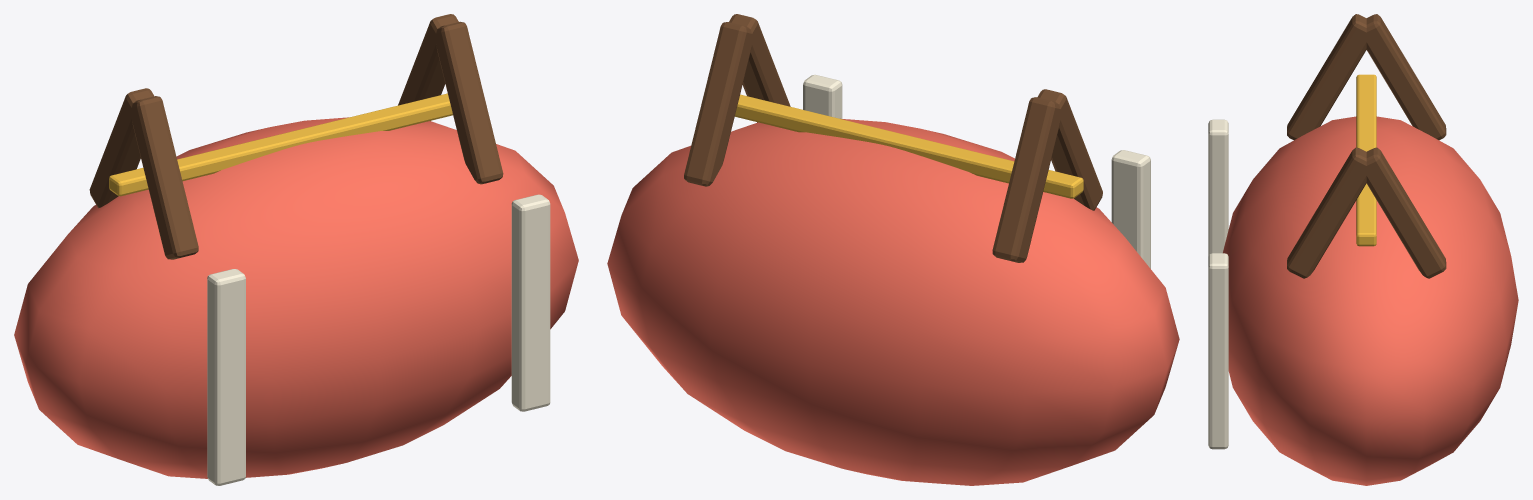
File: beach-bag.glb
3 renders of one model, left to right at view 1: azimuth 30°, elevation 25°; view 2: azimuth 150°, elevation 25°; view 3: azimuth 270°, elevation 25°, orthographic. The views are drawn at different scales.
Parts seen in each view (by area): view 1: Duffel body.001; view 2: Duffel body.001; view 3: Duffel body.001.
Boxes of the visible parts, bbox=[...] form: Duffel body.001: bbox=[14, 14, 578, 485]; Duffel body.001: bbox=[607, 14, 1179, 485]; Duffel body.001: bbox=[1208, 14, 1518, 485].
Size of the model in its own units: 0.96 by 0.6772 by 0.5305.
